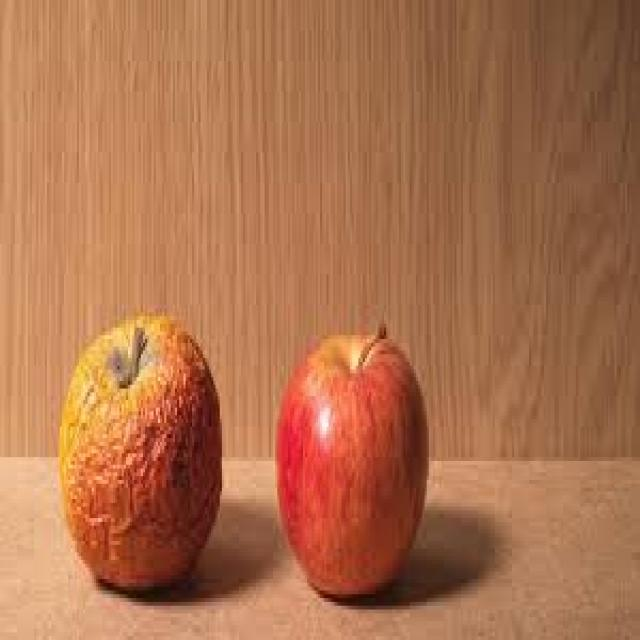organic waste: (56, 309, 218, 594), (273, 316, 427, 598)
